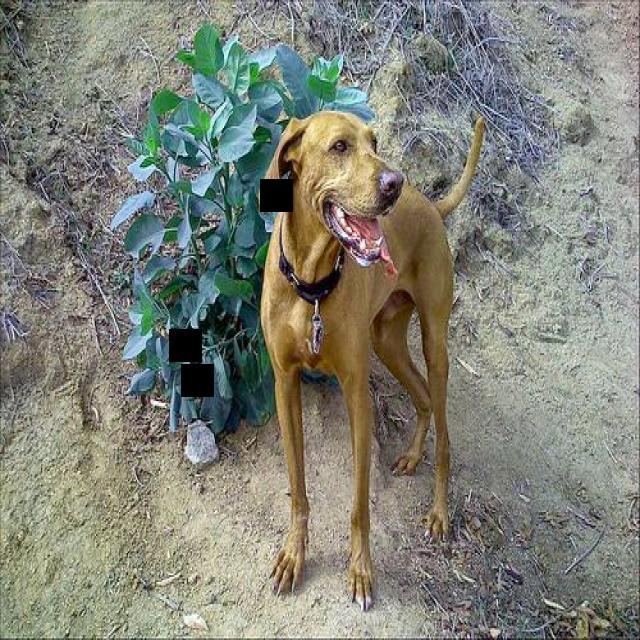adult_dog: (260, 109, 487, 612)
